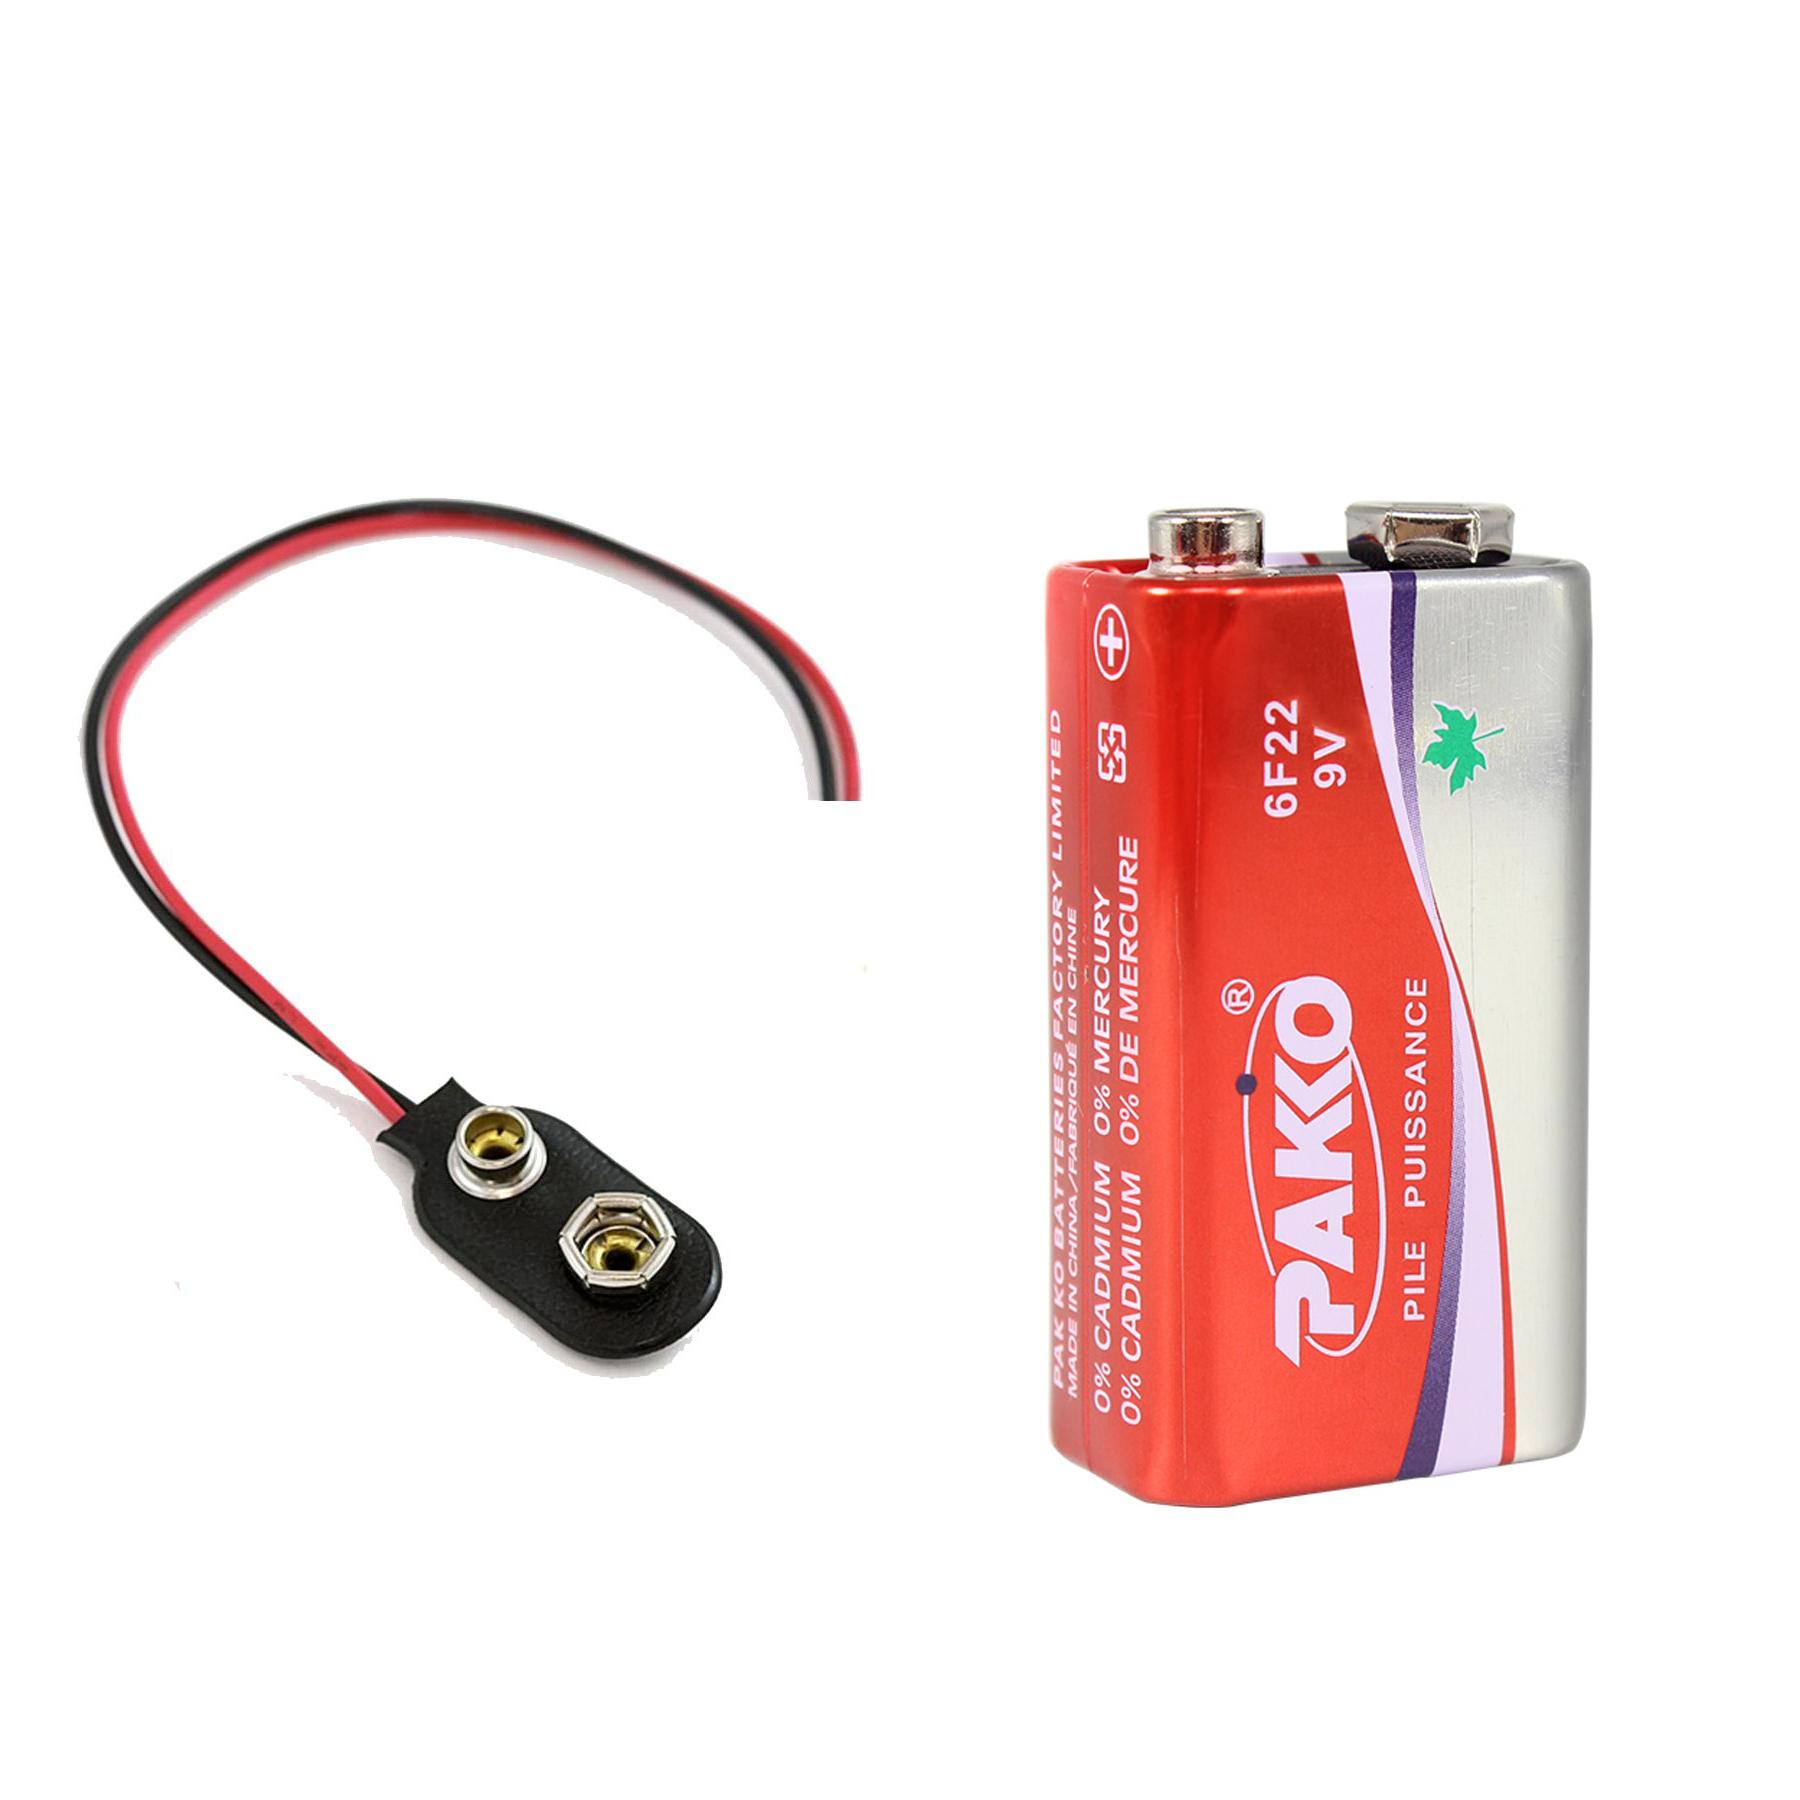9V Battery: (1047, 503, 1592, 1512)
